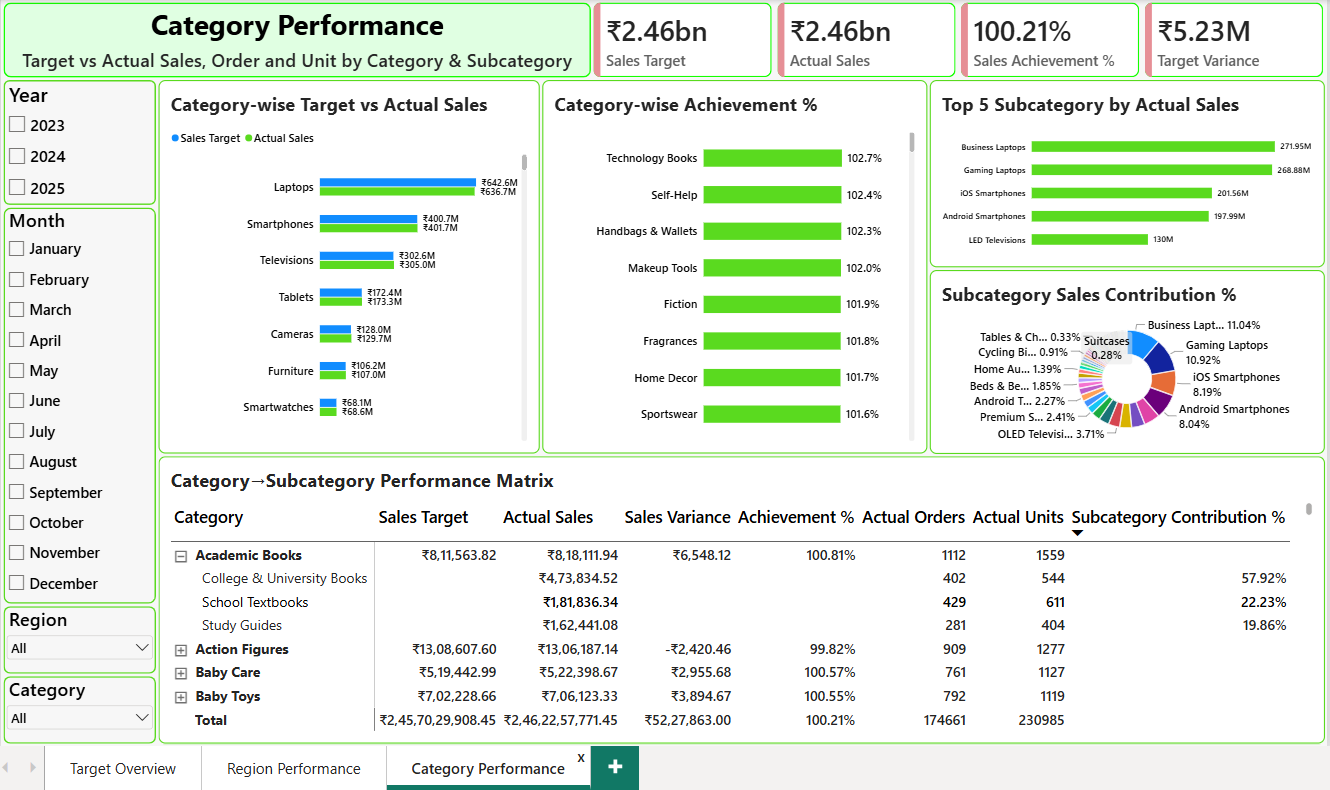

The page's visual inventory and layout, read from the dashboard file:
{"tool":"powerbi","page":{"name":"Category Performance","canvas":[1920,1080],"ordinal":2},"visuals":[{"type":"shape","box":[3.6,3.6,850.5,108.6],"z":0},{"type":"textbox","box":[25.3,68.8,807.1,43.4],"z":1000},{"type":"cardVisual","fields":{"Data":["Measure.Sales Target","Measure.Actual Sales","Measure.Sales Achievement %","Measure.Sales Variance"]},"box":[857.8,3.6,1058.7,108.6],"z":2000},{"type":"shape","box":[3.6,115.8,220.8,181],"z":3000},{"type":"shape","box":[3.6,979,220.8,97.7],"z":4000},{"type":"shape","box":[3.6,877.7,220.8,97.7],"z":5000},{"type":"shape","box":[3.6,300.4,220.8,573.7],"z":6000},{"type":"slicer","fields":{"Values":["DimDate.Year"]},"box":[3.6,115.8,220.8,181],"z":7000},{"type":"slicer","fields":{"Values":["categories.category_name"]},"box":[3.6,979,220.8,97.7],"z":8000},{"type":"slicer","fields":{"Values":["DimRegion.region"]},"box":[3.6,877.7,220.8,97.7],"z":9000},{"type":"slicer","fields":{"Values":["DimDate.Month Name"]},"box":[3.6,300.4,220.8,573.7],"z":10000},{"type":"clusteredBarChart","title":"Category-wise Target vs Actual Sales","fields":{"Category":["categories.category_name"],"Y":["Measure.Sales Target","Measure.Actual Sales"]},"box":[228,115.8,551.9,541.1],"z":11000},{"type":"clusteredBarChart","title":"Category-wise Achievement %","fields":{"Category":["categories.category_name"],"Y":["Measure.Sales Achievement %"]},"box":[783.6,115.8,557.4,541.1],"z":12000},{"type":"clusteredBarChart","title":"Top 5 Subcategory by Actual Sales","fields":{"Category":["Subcategory Actual Performance.subcategory"],"Y":["Measure.Subcategory Actual Sales"]},"box":[1344.6,115.8,571.9,271.4],"z":13000},{"type":"donutChart","title":"Subcategory Sales Contribution %","fields":{"Category":["Subcategory Actual Performance.subcategory"],"Y":["Measure.Subcategory Sales Contribution %"]},"box":[1344.6,390.9,571.9,266],"z":14000},{"type":"pivotTable","title":"Category→Subcategory Performance Matrix","fields":{"Rows":["categories.category_name","Subcategory Actual Performance.subcategory"],"Values":["Matrix Measures.Matrix Sales Target","Matrix Measures.Matrix Actual Sales","Matrix Measures.Matrix Sales Variance","Matrix Measures.Matrix Achievement %","Matrix Measures.Matrix Actual Orders","Matrix Measures.Matrix Actual Units","Matrix Measures.Matrix Contribution %"]},"box":[228,660.5,1688.4,416.2],"z":15000}]}

Visuals, with their boxes on the page's 1920x1080 design canvas (x1, y1, x2, y2). These are canvas units, not pixel positions in the 1330x790 screenshot, which may show the page scaled, cropped or inside an application window:
shape: x1=4, y1=4, x2=854, y2=112
textbox: x1=25, y1=69, x2=832, y2=112
cardVisual - Measure.Sales Target x Measure.Actual Sales: x1=858, y1=4, x2=1916, y2=112
shape: x1=4, y1=116, x2=224, y2=297
shape: x1=4, y1=979, x2=224, y2=1077
shape: x1=4, y1=878, x2=224, y2=975
shape: x1=4, y1=300, x2=224, y2=874
slicer - DimDate.Year: x1=4, y1=116, x2=224, y2=297
slicer - categories.category_name: x1=4, y1=979, x2=224, y2=1077
slicer - DimRegion.region: x1=4, y1=878, x2=224, y2=975
slicer - DimDate.Month Name: x1=4, y1=300, x2=224, y2=874
"Category-wise Target vs Actual Sales" clusteredBarChart: x1=228, y1=116, x2=780, y2=657
"Category-wise Achievement %" clusteredBarChart: x1=784, y1=116, x2=1341, y2=657
"Top 5 Subcategory by Actual Sales" clusteredBarChart: x1=1345, y1=116, x2=1916, y2=387
"Subcategory Sales Contribution %" donutChart: x1=1345, y1=391, x2=1916, y2=657
"Category→Subcategory Performance Matrix" pivotTable: x1=228, y1=660, x2=1916, y2=1077
